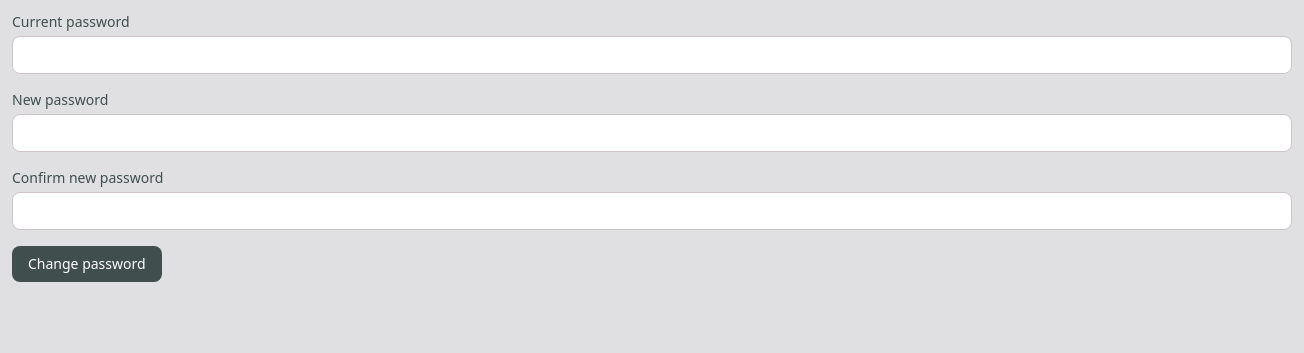
Test: ChangePasswordForm › handles 401 by logging out and redirecting to login
This screenshot has width=1304, height=353.
Type "oldpassword123" into the password field labelled "Current password" at (652, 55), box [12,36,1292,74]
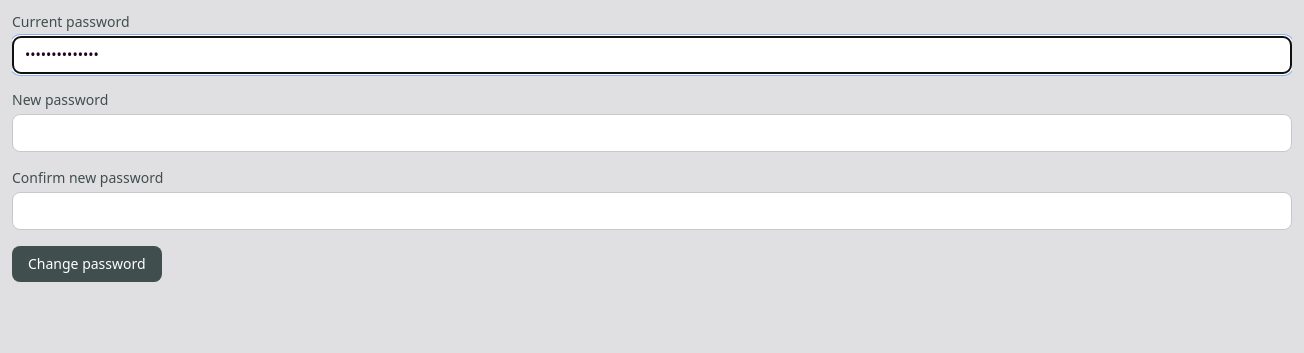
Type "newpassword123" into the password field labelled "New password" at (652, 133), box [12,114,1292,152]
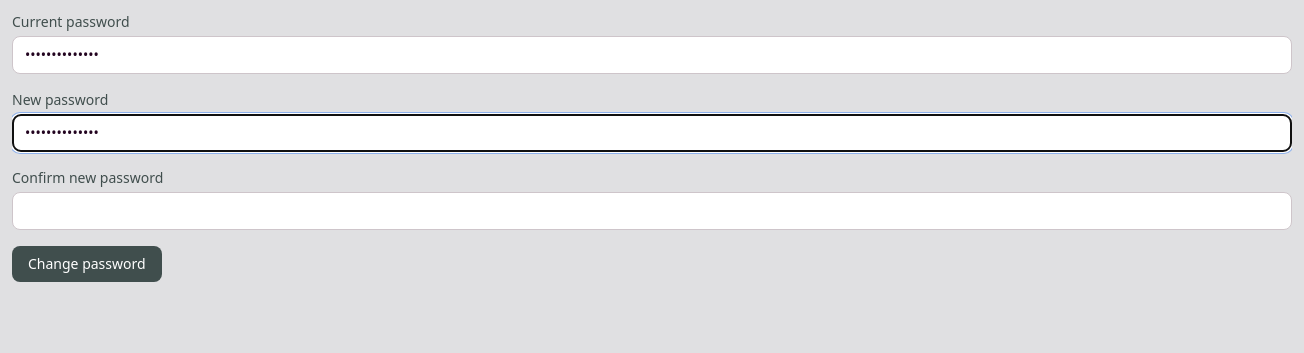
Type "newpassword123" into the password field labelled "Confirm new password" at (652, 211), box [12,192,1292,230]
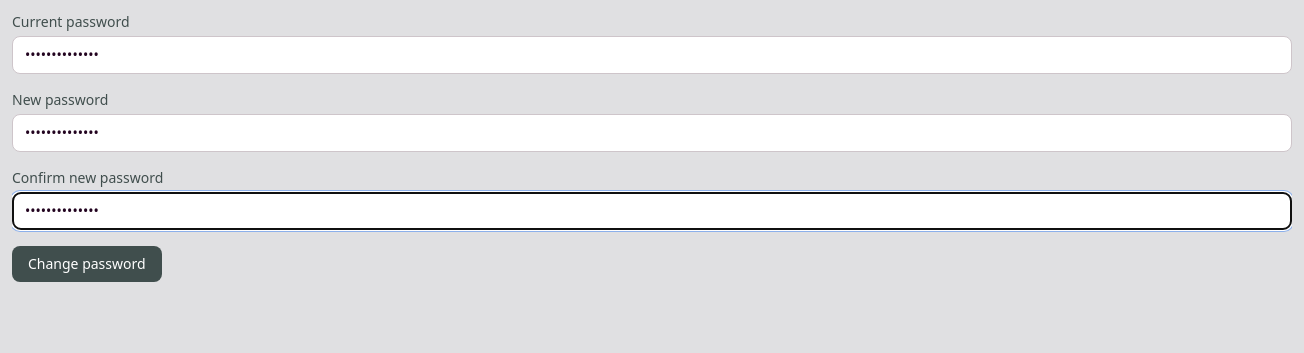
Click the button "Change password" at (87, 264), box [12,246,162,282]
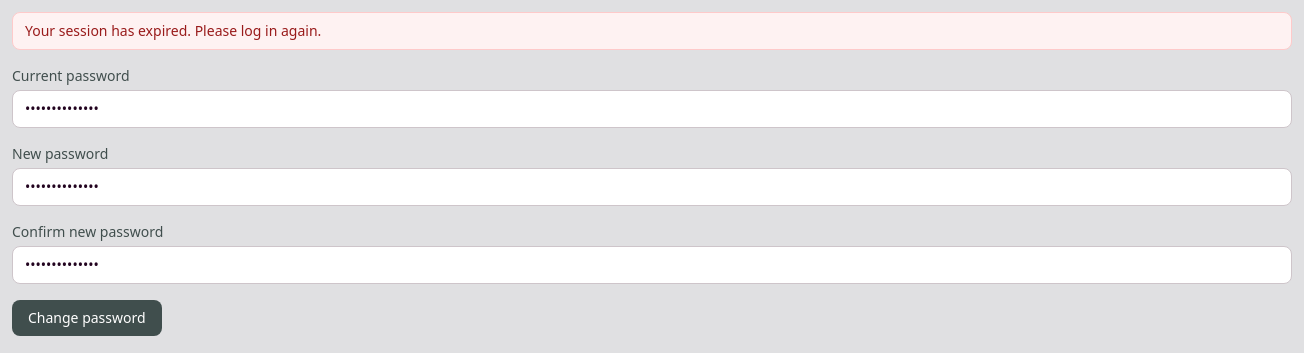
Check: the text "Your session has expired. Please log in again." is shown, box [12,12,1292,50]
